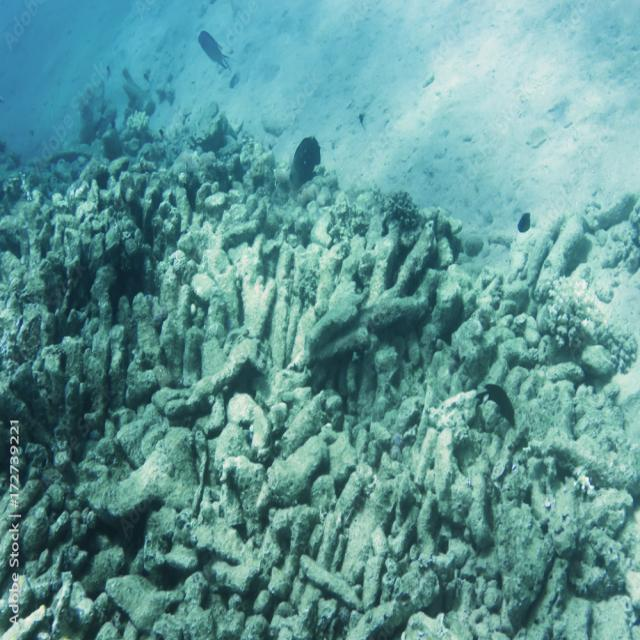Dead Coral: (0, 138, 615, 637)
